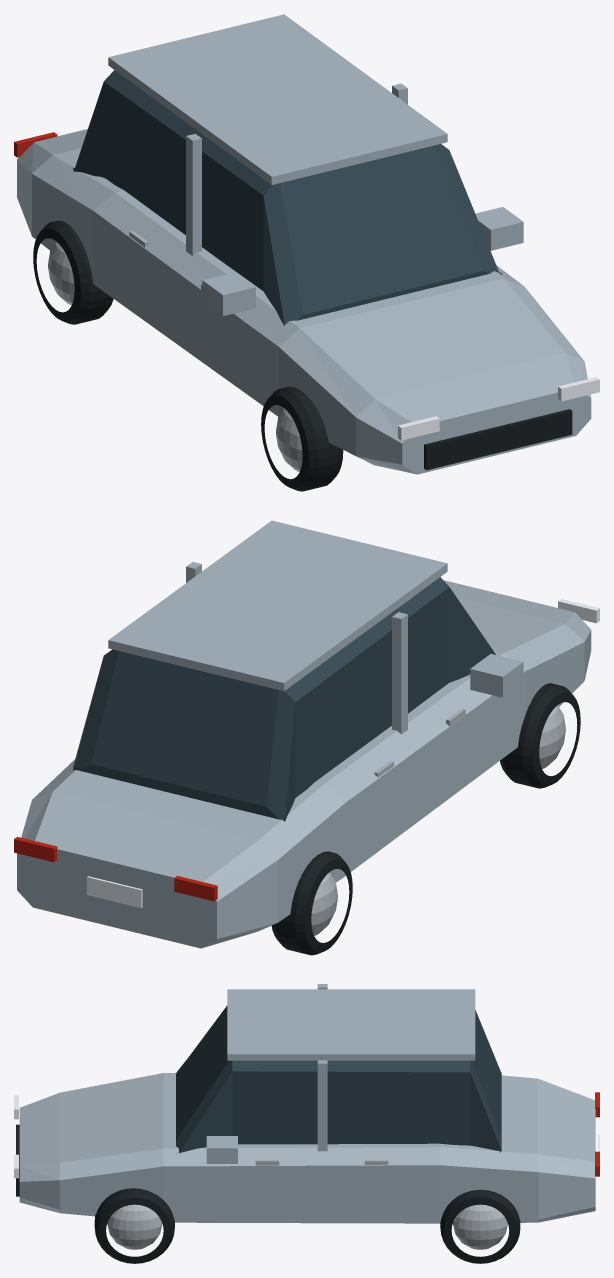
The model's file is campus_suv.glb.
3 renders of one model, top to bottom at view 1: azimuth 30°, elevation 25°; view 2: azimuth 150°, elevation 25°; view 3: azimuth 270°, elevation 25°, orthographic. The views are drawn at different scales.
Parts seen in each view (by area): view 1: body, glass, roof, wheel-front-right, lower-grille, mirror (×2), wheel-back-right, alloy-hub (×2), window-pillar, front-light (×2); view 2: body, glass, roof, wheel-front-right, wheel-back-right, alloy-hub (×2), window-pillar, mirror, rear-light (×2), number-plate; view 3: body, glass, roof, alloy-hub (×2), wheel-front-left, wheel-back-left, window-pillar, mirror.
Part boxes in pixels (x1,y1,x2,y2): body: (17,129,591,474); glass: (73,70,502,325); roof: (108,14,447,184); wheel-front-right: (261,386,343,491); lower-grille: (424,409,572,470); mirror (×2): (202,207,523,315); wheel-back-right: (33,220,113,324); alloy-hub (×2): (48,241,302,471); window-pillar: (186,133,201,256); front-light (×2): (398,377,599,440); body: (17,580,591,948); glass: (73,577,495,821); roof: (108,520,447,690); wheel-front-right: (500,683,580,788); wheel-back-right: (271,851,352,955); alloy-hub (×2): (311,705,565,935); window-pillar: (392,612,407,734); mirror: (470,654,523,697); rear-light (×2): (14,837,217,901); number-plate: (87,876,142,908); body: (19,1072,595,1223); glass: (176,1005,501,1153); roof: (227,989,475,1060); alloy-hub (×2): (107,1204,507,1249); wheel-front-left: (94,1188,174,1263); wheel-back-left: (440,1189,520,1263); window-pillar: (317,1060,327,1151); mirror: (206,1136,237,1163).
Size of the model in its own units: 2.1 by 1.71 by 4.68.
